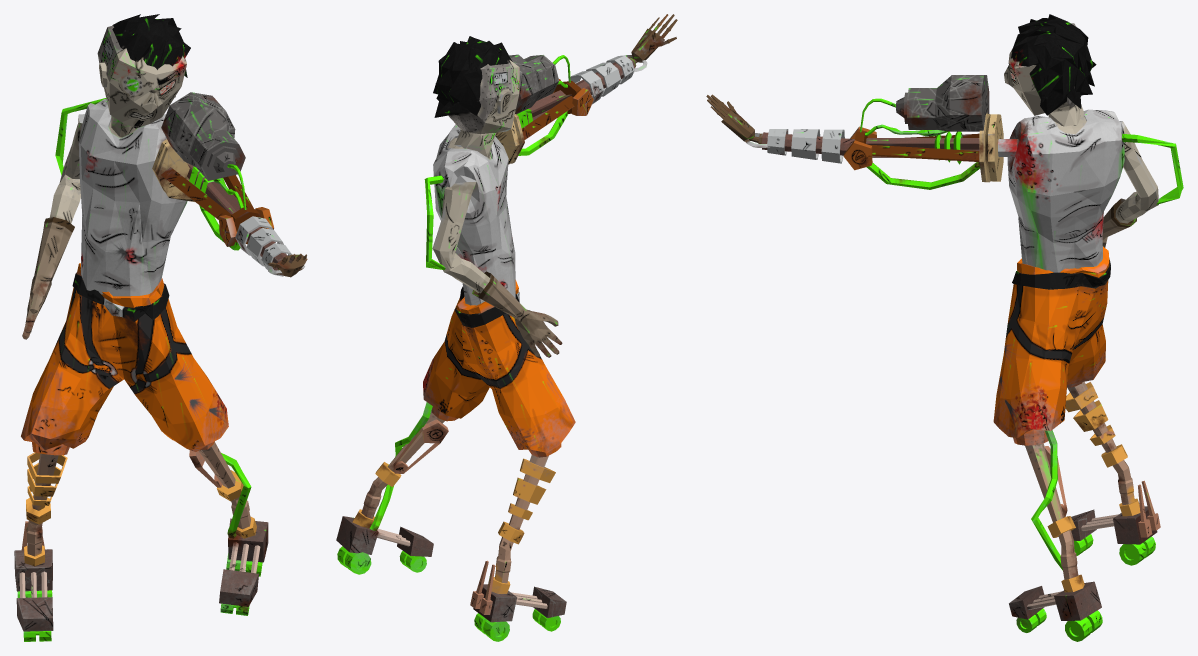
Rendered from CyborgFINALAnimation_000020.obj.
3 renders of one model, left to right at view 1: azimuth 30°, elevation 25°; view 2: azimuth 150°, elevation 25°; view 3: azimuth 270°, elevation 25°, orthographic. The views are drawn at different scales.
Visible parts, largest first — view 1: CyborgMesh_Cube.002; view 2: CyborgMesh_Cube.002; view 3: CyborgMesh_Cube.002.
Part boxes in pixels (<box>): CyborgMesh_Cube.002: <box>14,14,307,641</box>; CyborgMesh_Cube.002: <box>336,14,677,641</box>; CyborgMesh_Cube.002: <box>706,14,1183,641</box>.
Bounding box in the file's own units: 4.04 × 9.43 × 7.12.
